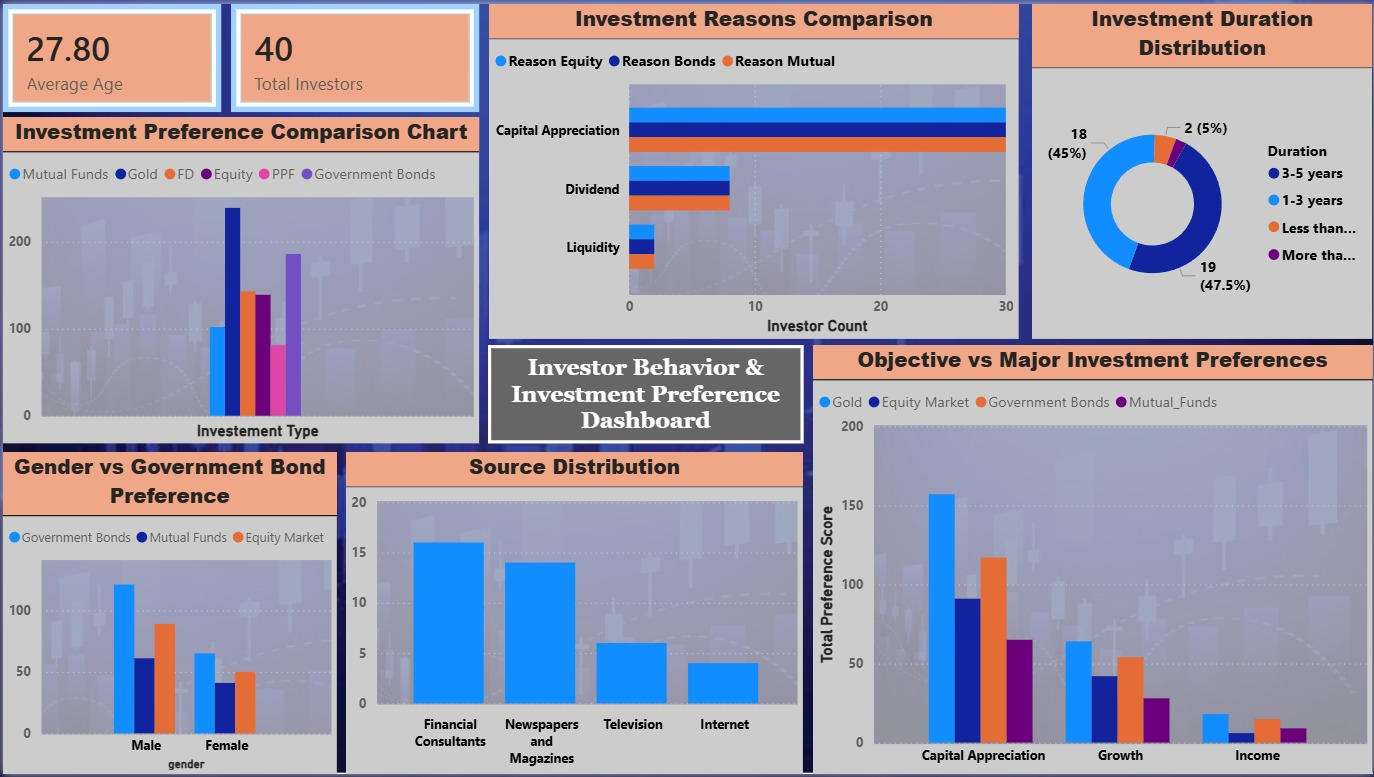

This screenshot's page, from the dashboard's own definition file:
{"tool":"powerbi","page":{"name":"Final Dashboard","canvas":[1280,720],"ordinal":6},"visuals":[{"type":"clusteredColumnChart","title":"Investment Preference Comparison Chart","fields":{"Y":["Data_set 2.Mutual Funds Total","Data_set 2.Gold Total","Data_set 2.FD Total","Data_set 2.Equity Total","Data_set 2.PPF Total","Data_set 2.Government Bonds Total"]},"box":[0,105.5,445.5,305.5],"z":0},{"type":"clusteredColumnChart","title":"Gender vs Government Bond Preference","fields":{"Category":["Data_set 2.gender"],"Y":["Sum(Data_set 2.Government_Bonds)","Sum(Data_set 2.Mutual_Funds)","Sum(Data_set 2.Equity_Market)"]},"box":[0,419.1,311.8,300.9],"z":1000},{"type":"clusteredColumnChart","title":"Objective vs Major Investment Preferences","fields":{"Category":["Data_set 2.Objective"],"Y":["Sum(Data_set 2.Gold)","Sum(Data_set 2.Equity_Market)","Sum(Data_set 2.Government_Bonds)","Sum(Data_set 2.Mutual_Funds)"]},"box":[757.3,319.1,522.7,400.9],"z":2000},{"type":"donutChart","title":"Investment Duration Distribution","fields":{"Category":["Data_set 2.Duration"],"Y":["CountNonNull(Data_set 2.Duration)"]},"box":[961.8,0,318.2,312.7],"z":3000},{"type":"clusteredBarChart","title":"Investment Reasons Comparison","fields":{"Category":["Data_set 2.Reason_Equity"],"Y":["CountNonNull(Data_set 2.Reason_Equity)","CountNonNull(Data_set 2.Reason_Bonds)","CountNonNull(Data_set 2.Reason_Mutual)"]},"box":[454,0,495,313],"z":4000},{"type":"clusteredColumnChart","title":"Source Distribution","fields":{"Category":["Data_set 2.Source"],"Y":["CountNonNull(Data_set 2.Source)"]},"box":[320.9,419.1,427.3,300.9],"z":5000},{"type":"cardVisual","fields":{"Data":["Data_set 2.Average Age"]},"box":[0,0,204,101],"z":6000},{"type":"cardVisual","fields":{"Data":["Data_set 2.Total Investors"]},"box":[213,0,232,101],"z":7000},{"type":"textbox","box":[453.6,319.1,294.5,91.8],"z":8000}]}

Visuals, with their boxes in screenshot pixels (x1, y1, x2, y2), scaled from the page's 1280x720 canvas onto the 1374x777 screenshot:
"Investment Preference Comparison Chart" clusteredColumnChart: select_region(0, 114, 478, 444)
"Gender vs Government Bond Preference" clusteredColumnChart: select_region(0, 452, 335, 776)
"Objective vs Major Investment Preferences" clusteredColumnChart: select_region(813, 344, 1373, 776)
"Investment Duration Distribution" donutChart: select_region(1032, 0, 1373, 337)
"Investment Reasons Comparison" clusteredBarChart: select_region(487, 0, 1019, 338)
"Source Distribution" clusteredColumnChart: select_region(344, 452, 803, 776)
cardVisual - Data_set 2.Average Age: select_region(0, 0, 219, 109)
cardVisual - Data_set 2.Total Investors: select_region(229, 0, 478, 109)
textbox: select_region(487, 344, 803, 443)
